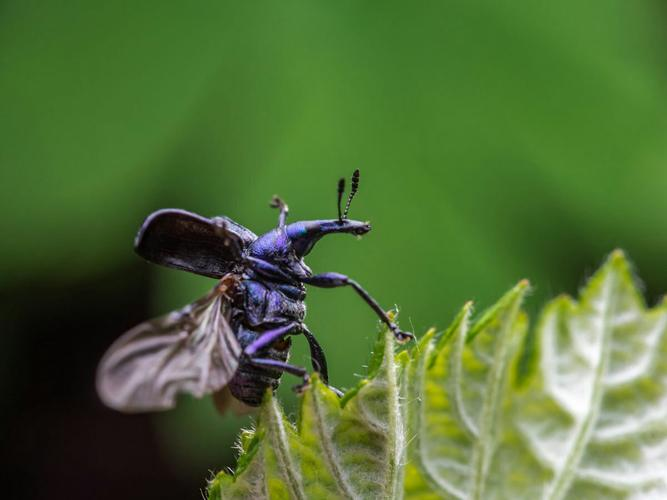Curculionidae: (94, 168, 416, 415)
